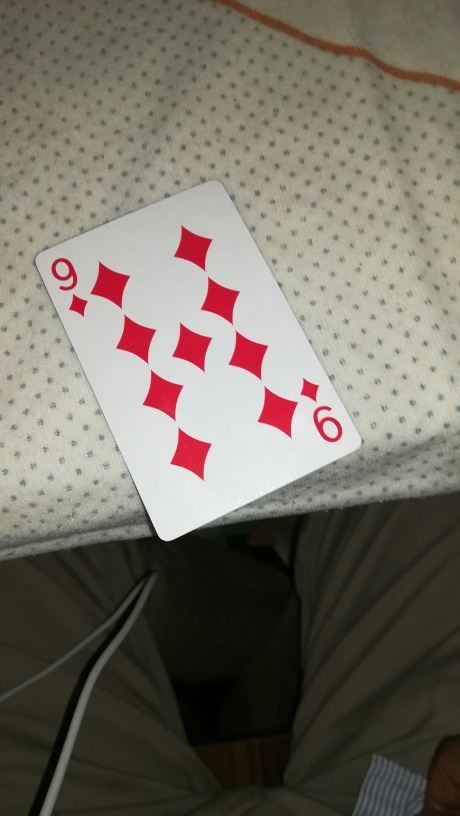fk 9: (33, 178, 363, 539)
